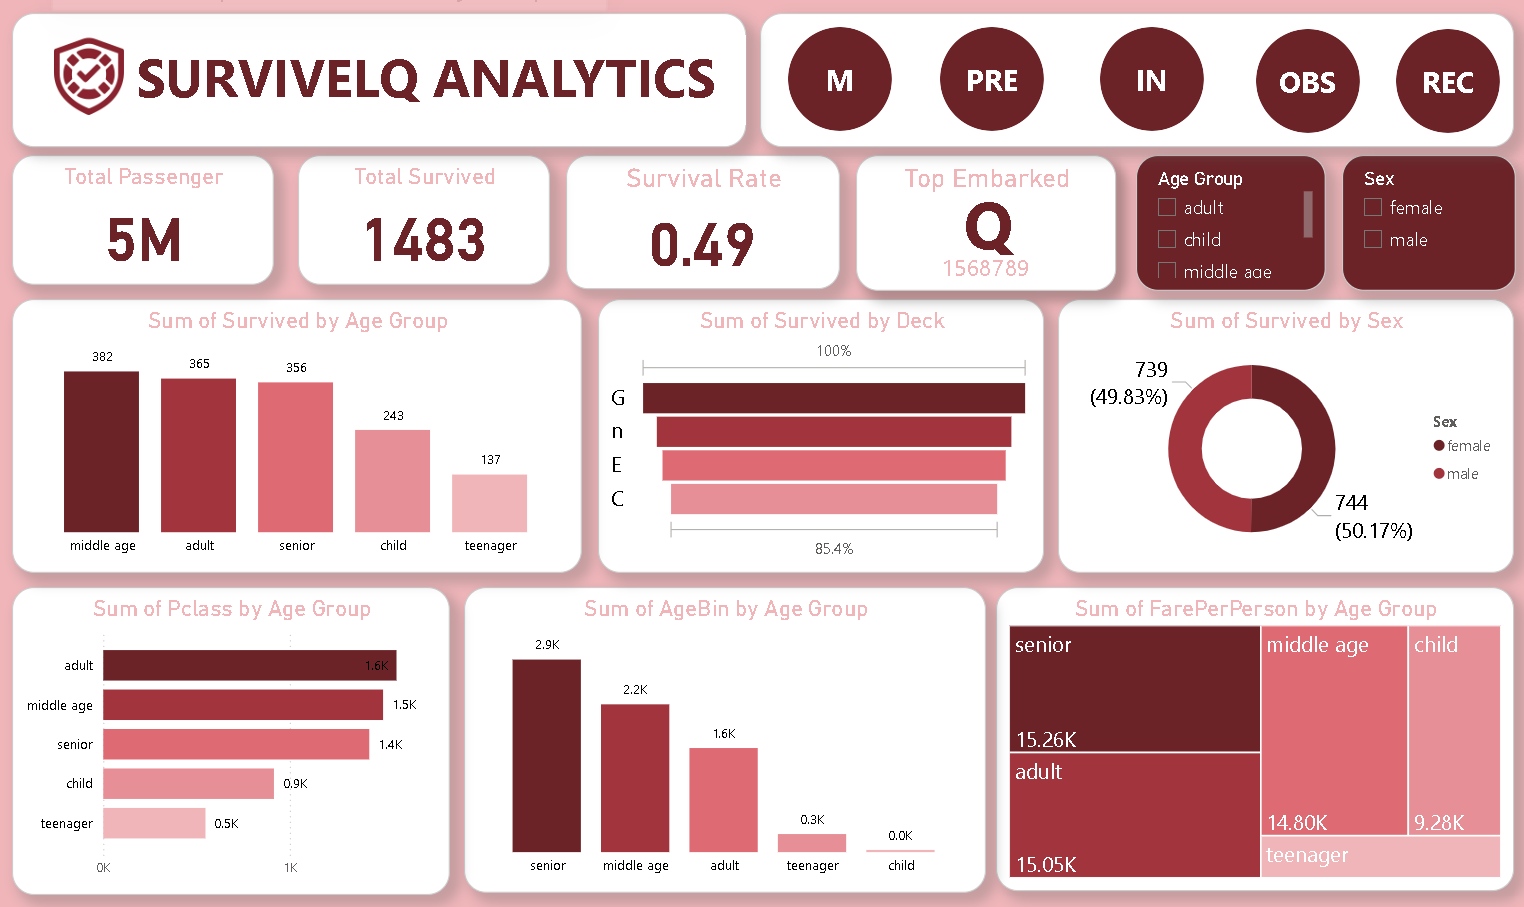

Layout of this report page (visuals, bound fields, positions):
{"tool":"powerbi","page":{"name":"Dashboard","canvas":[1400,830],"ordinal":0},"visuals":[{"type":"treemap","fields":{"Group":["titanic_.Age Group"],"Values":["Sum(titanic_.FarePerPerson)"]},"box":[914.5,536.4,470.9,276.4],"z":0},{"type":"columnChart","fields":{"Category":["titanic_.Age Group"],"Y":["Sum(titanic_.AgeBin)"]},"box":[430.9,536.4,474.5,278.2],"z":1000},{"type":"barChart","fields":{"Category":["titanic_.Age Group"],"Y":["Sum(titanic_.Pclass)"]},"box":[20,536.4,398.2,280],"z":2000},{"type":"funnel","fields":{"Category":["titanic_.Deck"],"Y":["Sum(titanic_.Survived)"]},"box":[552.7,274.5,405.5,249.1],"z":3000},{"type":"columnChart","fields":{"Category":["titanic_.Age Group"],"Y":["Sum(titanic_.Survived)"]},"box":[20,274.5,518.2,249.1],"z":4000},{"type":"donutChart","fields":{"Category":["titanic_.Sex"],"Y":["Sum(titanic_.Survived)"]},"box":[970.9,274.5,414.5,249.1],"z":5000},{"type":"card","title":"Total Passenger","fields":{"Values":["titanic_.Total passenger"]},"box":[20,143.6,238.2,118.2],"z":7000},{"type":"card","title":"Survival Rate","fields":{"Values":["titanic_.Survival rate"]},"box":[523.6,143.6,249.1,121.8],"z":9000},{"type":"shape","title":"Top Embarked","box":[787.3,143.6,236.4,123.6],"z":11000},{"type":"textbox","box":[880,161.8,90.9,87.3],"z":12000},{"type":"textbox","box":[860,225.5,129.1,41.8],"z":13000},{"type":"slicer","fields":{"Values":["titanic_.Age Group"]},"box":[1041.8,143.6,172.7,123.6],"z":13001},{"type":"slicer","fields":{"Values":["titanic_.Sex"]},"box":[1229.1,143.6,158.2,123.6],"z":13002},{"type":"shape","box":[700,14.5,685.5,121.8],"z":13003},{"type":"shape","box":[725.5,27.3,94.5,94.5],"z":13004},{"type":"shape","box":[863.6,27.3,94.5,94.5],"z":13005},{"type":"shape","box":[1009.1,27.3,94.5,94.5],"z":13006},{"type":"shape","box":[1150.9,29.1,94.5,94.5],"z":13007},{"type":"shape","box":[1278.2,29.1,94.5,94.5],"z":13008},{"type":"card","title":"Total Survived","fields":{"Values":["Sum(titanic_.Survived)"]},"box":[280,143.6,229.1,118.2],"z":13009},{"type":"shape","box":[20,14.5,667.3,121.8],"z":13010},{"type":"textbox","box":[127.3,34.5,560,81.8],"z":13011},{"type":"image","box":[20,14.5,140,120],"z":13012}]}

Visuals, with their boxes in screenshot pixels (x1, y1, x2, y2), scaled from the page's 1400x830 canvas onto the 1524x907 screenshot:
treemap - titanic_.Age Group x Sum(titanic_.FarePerPerson): 995:586:1508:888
columnChart - titanic_.Age Group x Sum(titanic_.AgeBin): 469:586:986:890
barChart - titanic_.Age Group x Sum(titanic_.Pclass): 22:586:455:892
funnel - titanic_.Deck x Sum(titanic_.Survived): 602:300:1043:572
columnChart - titanic_.Age Group x Sum(titanic_.Survived): 22:300:586:572
donutChart - titanic_.Sex x Sum(titanic_.Survived): 1057:300:1508:572
"Total Passenger" card: 22:157:281:286
"Survival Rate" card: 570:157:841:290
"Top Embarked" shape: 857:157:1114:292
textbox: 958:177:1057:272
textbox: 936:246:1077:292
slicer - titanic_.Age Group: 1134:157:1322:292
slicer - titanic_.Sex: 1338:157:1510:292
shape: 762:16:1508:149
shape: 790:30:893:133
shape: 940:30:1043:133
shape: 1098:30:1201:133
shape: 1253:32:1356:135
shape: 1391:32:1494:135
"Total Survived" card: 305:157:554:286
shape: 22:16:748:149
textbox: 139:38:748:127
image: 22:16:174:147
